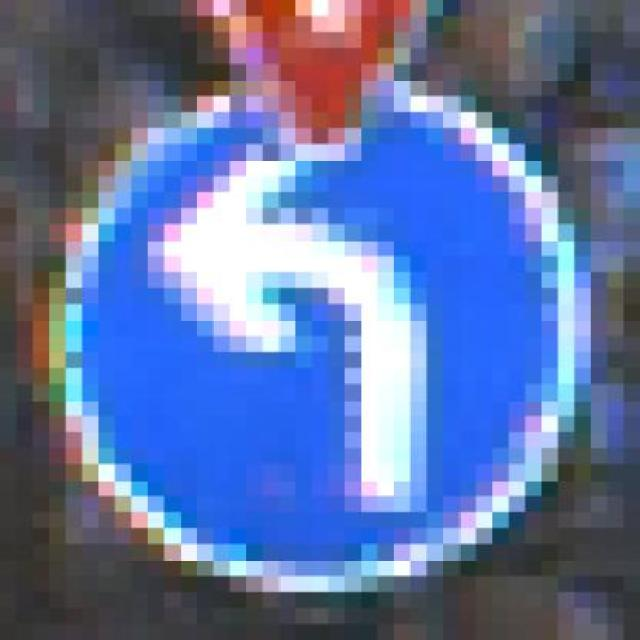Turn left ahead: (49, 48, 591, 608)
